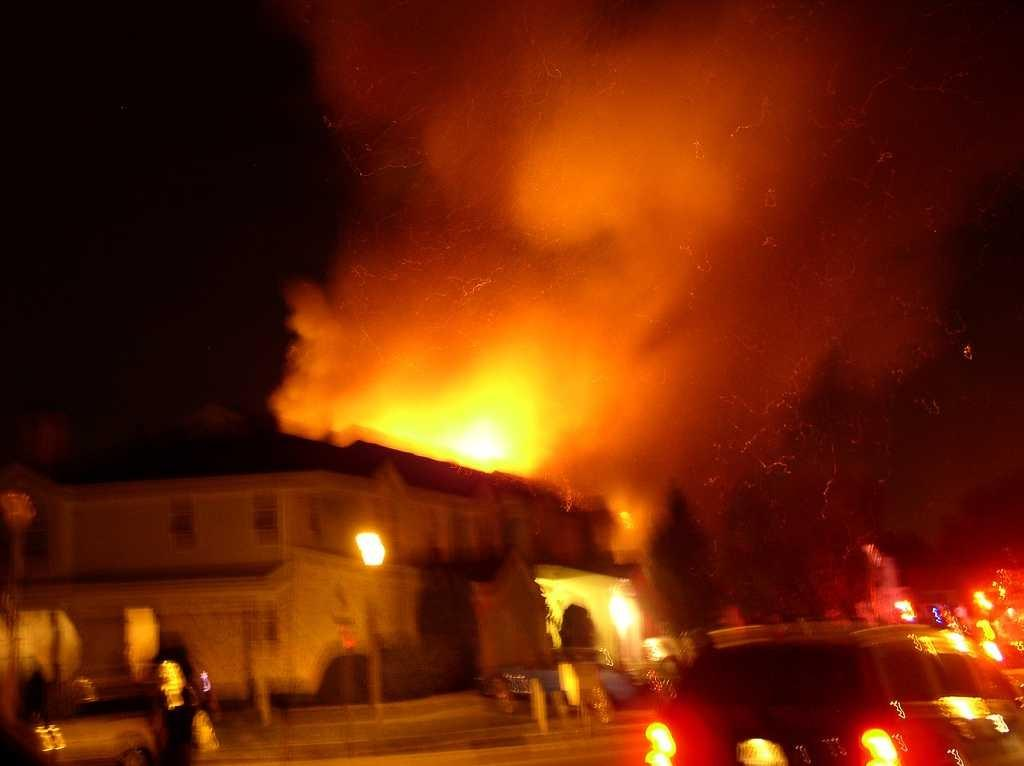fire: (440, 406, 512, 460), (646, 728, 686, 756), (608, 598, 638, 628), (360, 528, 380, 562)
smoke: (490, 88, 824, 342)
